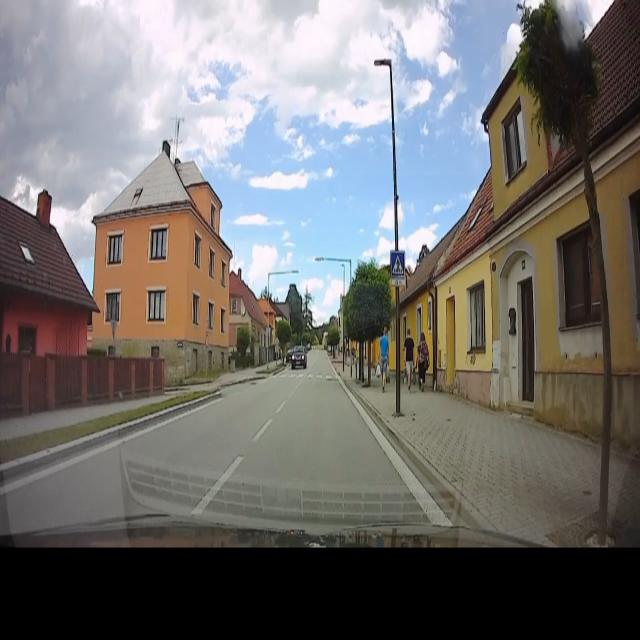Pedestrian crosswalk: (278, 368, 342, 384), (390, 250, 406, 278)
Person: (378, 322, 390, 396), (403, 324, 414, 392), (418, 327, 430, 389)
